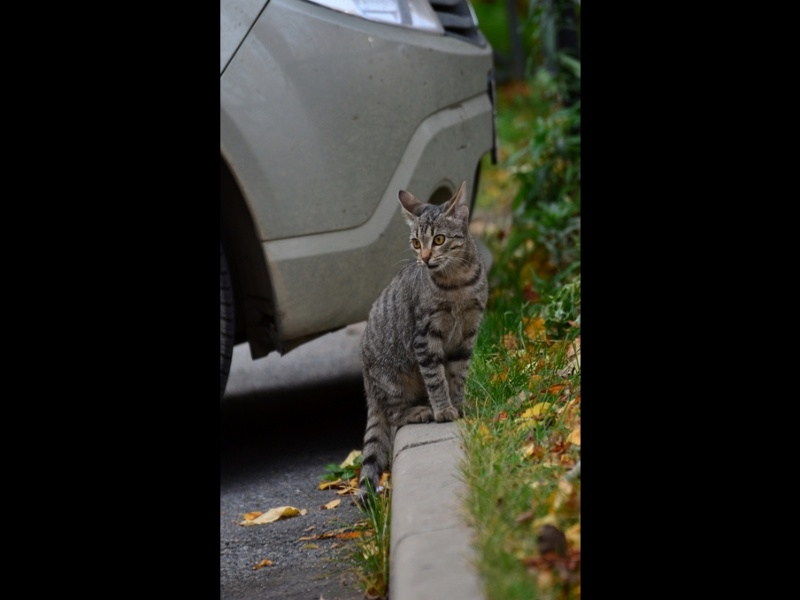cat: (349, 176, 489, 512)
